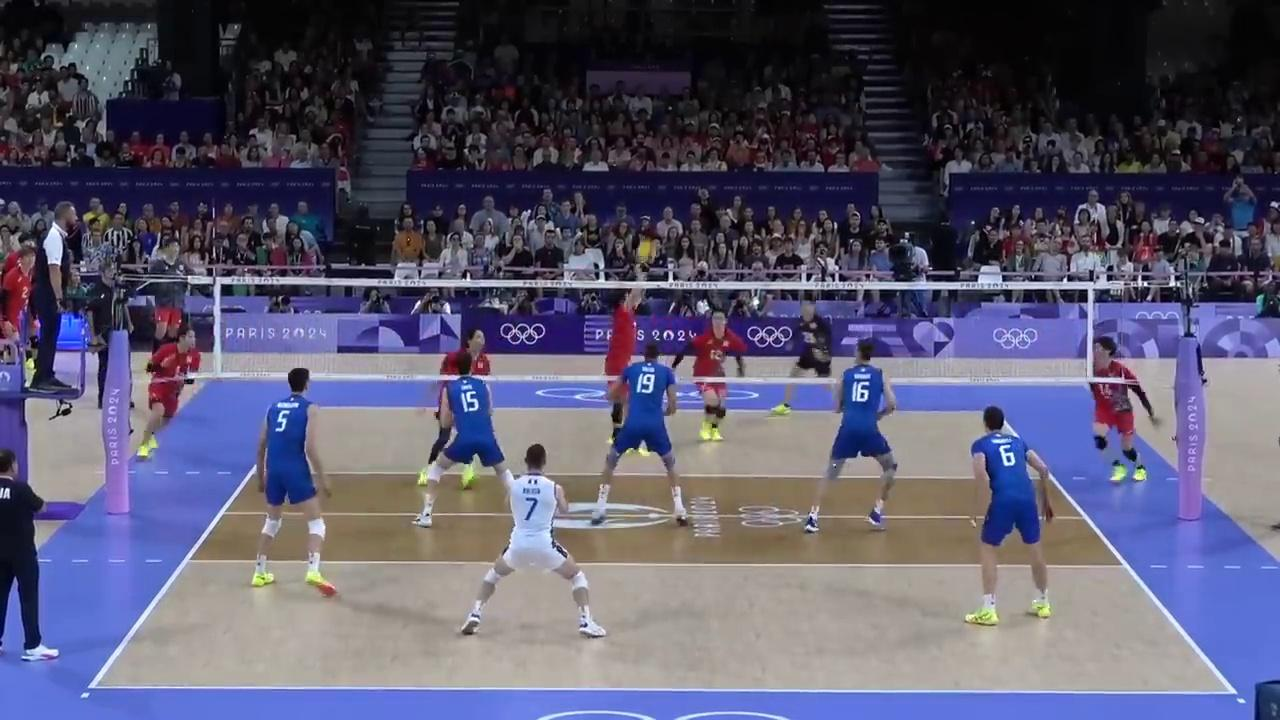ball: (637, 241, 657, 263)
